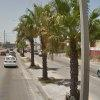Palm tree: (18, 7, 81, 81)
